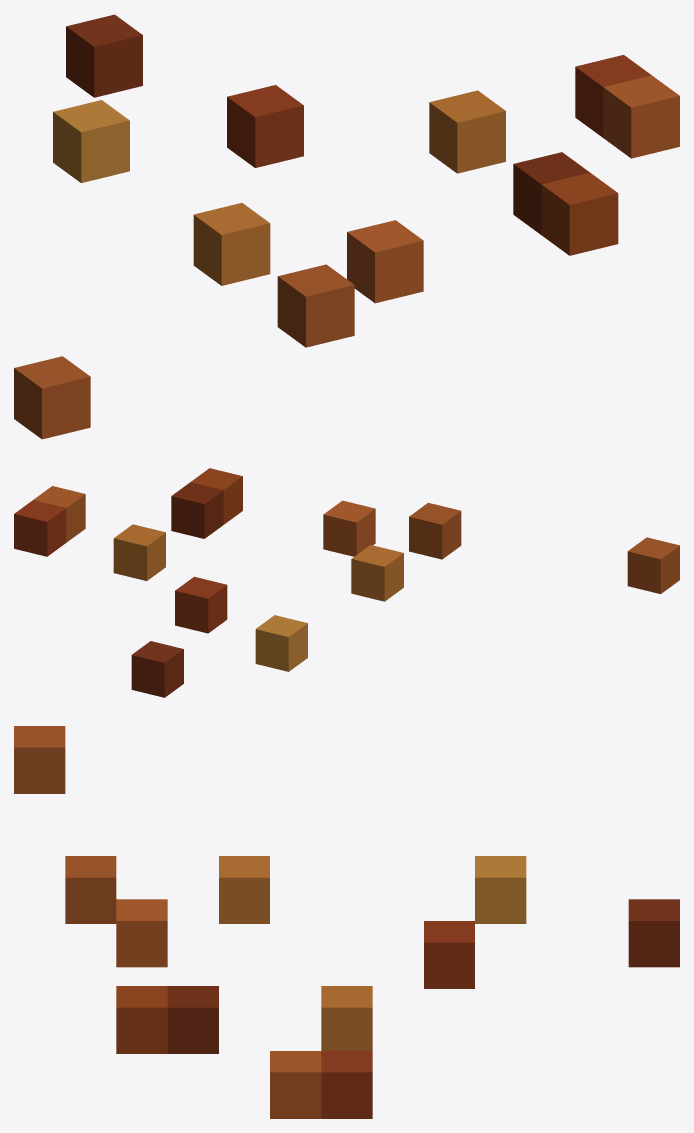
Rendered from float_autumn.glb.
3 views of the same model, one above another, from view 1: azimuth 30°, elevation 25°; view 2: azimuth 150°, elevation 25°; view 3: azimuth 270°, elevation 25° (orthographic). The views are drawn at different scales.
Visible parts, largest first — view 1: float_autumn; view 2: float_autumn; view 3: float_autumn.
Part boxes in pixels (box(x1,y1,x2,y2)): float_autumn: box(14, 14, 679, 439); float_autumn: box(14, 468, 679, 697); float_autumn: box(14, 726, 679, 1118).
Bounding box in the file's own units: 1 × 0.0625 × 0.8125.
